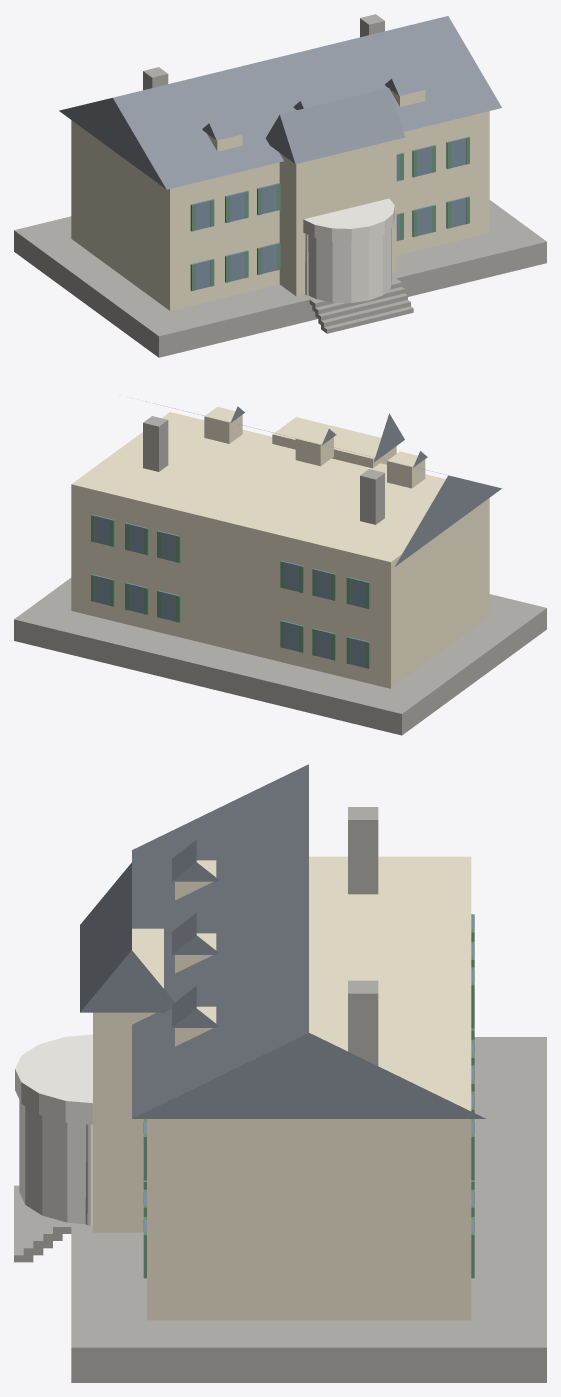
The model's file is lm_101_dinh_tinh_truong_tuyen_duc_doi_thong_old_governor_mansion.glb.
3 views of the same model, one above another, from view 1: azimuth 30°, elevation 25°; view 2: azimuth 150°, elevation 25°; view 3: azimuth 270°, elevation 25° (orthographic). The views are drawn at different scales.
Parts seen in each view (by area): view 1: lm_101_dinh_tinh_truong_tuyen_duc_doi_thong_old_governor_man; view 2: lm_101_dinh_tinh_truong_tuyen_duc_doi_thong_old_governor_man; view 3: lm_101_dinh_tinh_truong_tuyen_duc_doi_thong_old_governor_man.
Boxes of the visible parts, x1,y1,x2,y2 form: lm_101_dinh_tinh_truong_tuyen_duc_doi_thong_old_governor_man: (14, 14, 546, 357); lm_101_dinh_tinh_truong_tuyen_duc_doi_thong_old_governor_man: (14, 401, 546, 735); lm_101_dinh_tinh_truong_tuyen_duc_doi_thong_old_governor_man: (14, 764, 546, 1382).
Bounding box in the file's own units: 34 × 16.8 × 24.65.
